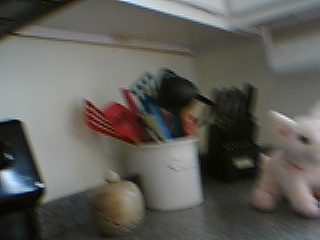piggy: (250, 101, 320, 222)
